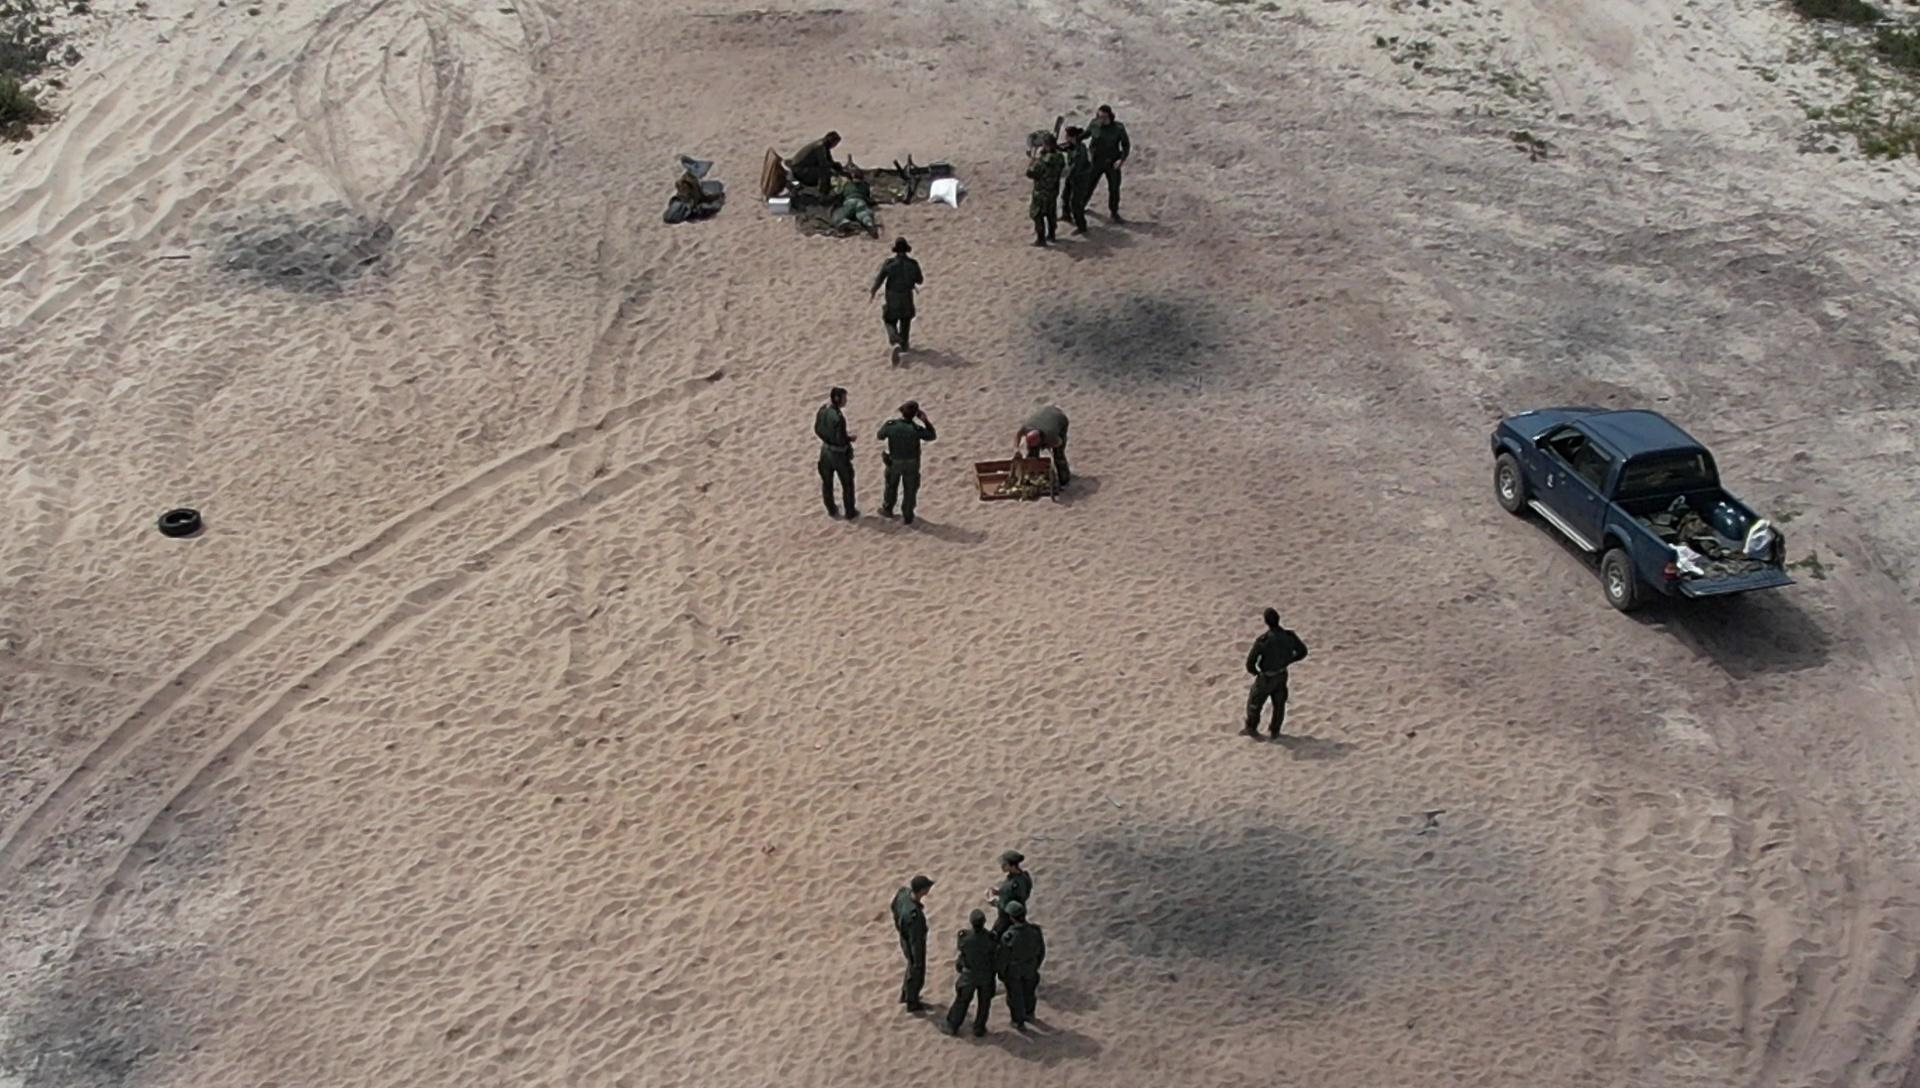Soldier: (1215, 588, 1313, 750), (996, 376, 1089, 510), (870, 386, 947, 538), (857, 223, 930, 372), (804, 378, 872, 538), (1079, 94, 1147, 236), (997, 899, 1062, 1048), (884, 851, 939, 1018), (947, 897, 997, 1048), (781, 111, 843, 204), (824, 156, 885, 236), (977, 826, 1035, 899), (1019, 127, 1055, 243), (1058, 117, 1091, 241)
